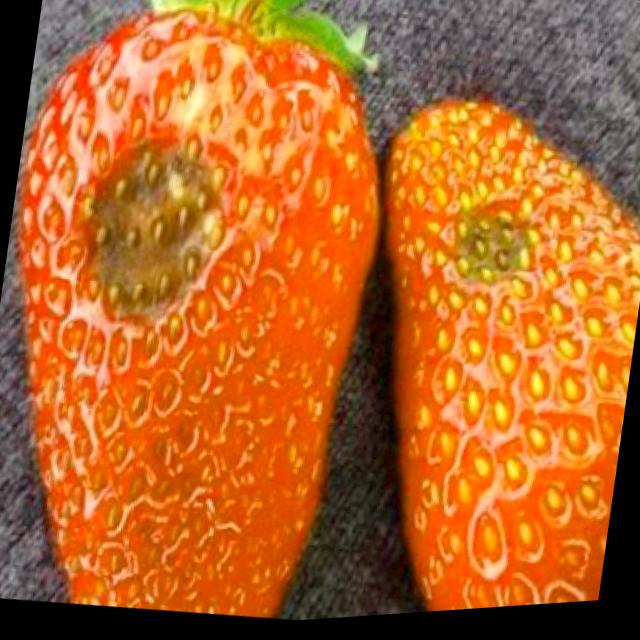Anthracnose Fruit Rot: (61, 133, 238, 327), (441, 210, 555, 297)
